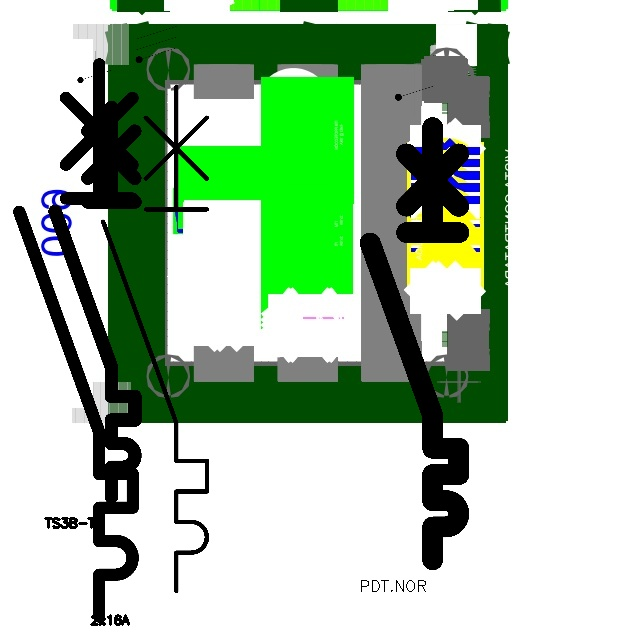interruptor_termomagnetico: (5, 50, 147, 631), (90, 73, 220, 603), (359, 116, 470, 571), (45, 97, 145, 507)
